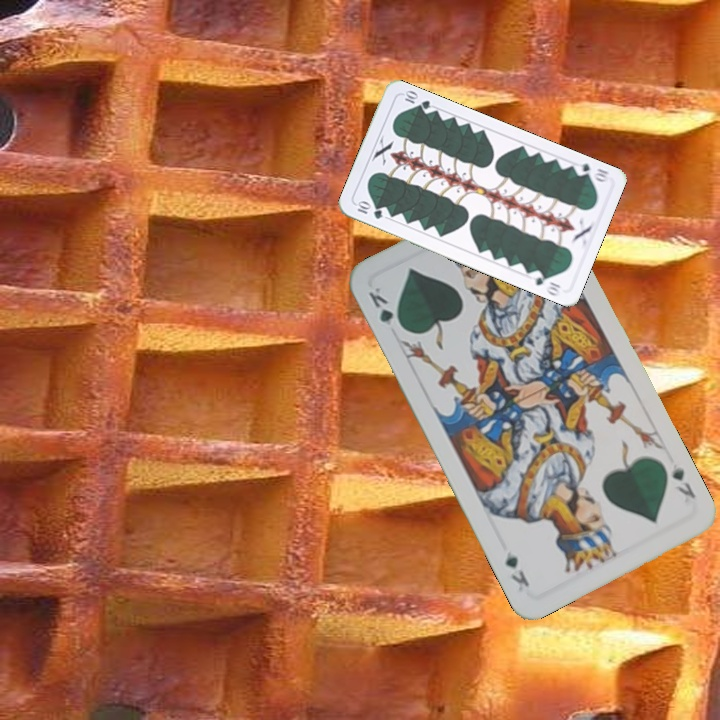G10: (570, 159, 612, 185), (352, 197, 386, 222)
GK: (364, 283, 406, 334), (667, 459, 698, 501)
